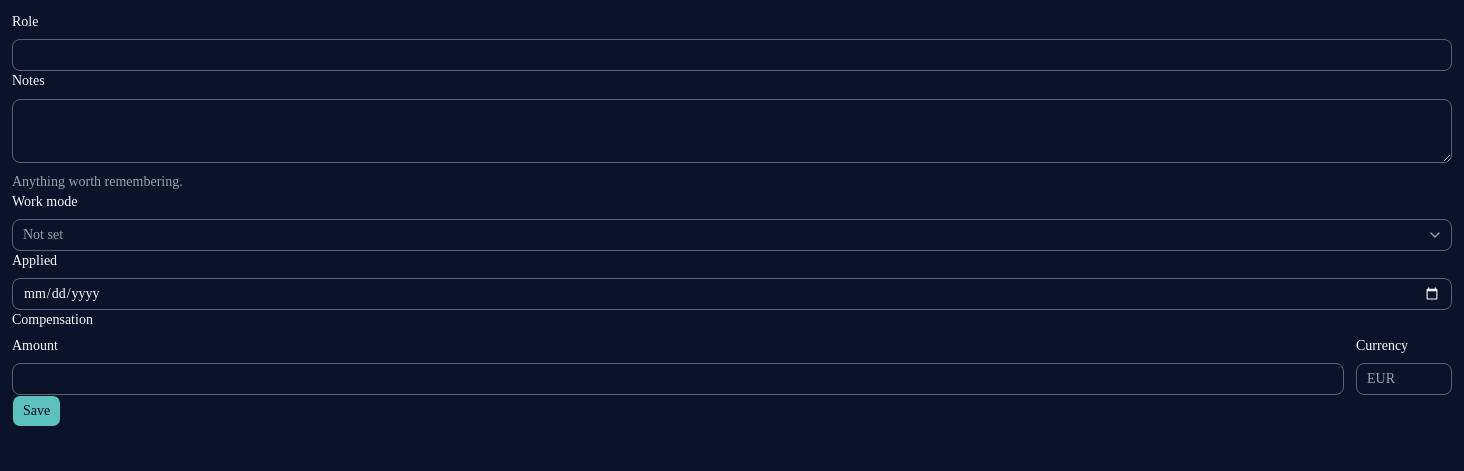
it: a field the form refused › marks it, points it at the messages, and leaves its neighbour alone
Click the button "Save" at [37, 411], box x1=12 y1=395 x2=61 y2=427
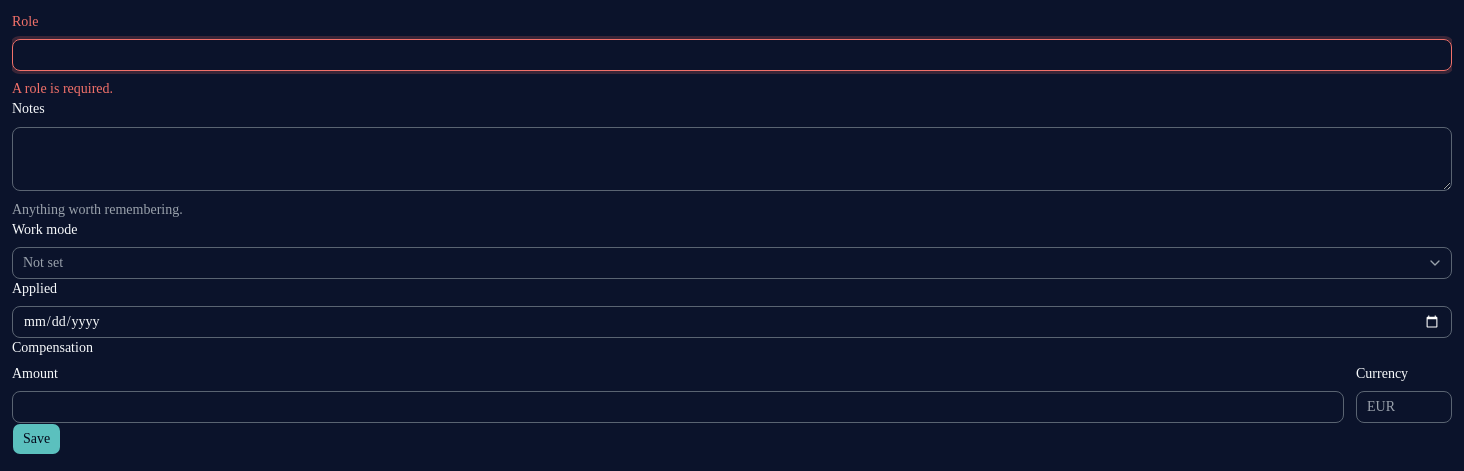
Now the list reads "A role is required.", box x1=12 y1=81 x2=113 y2=96
